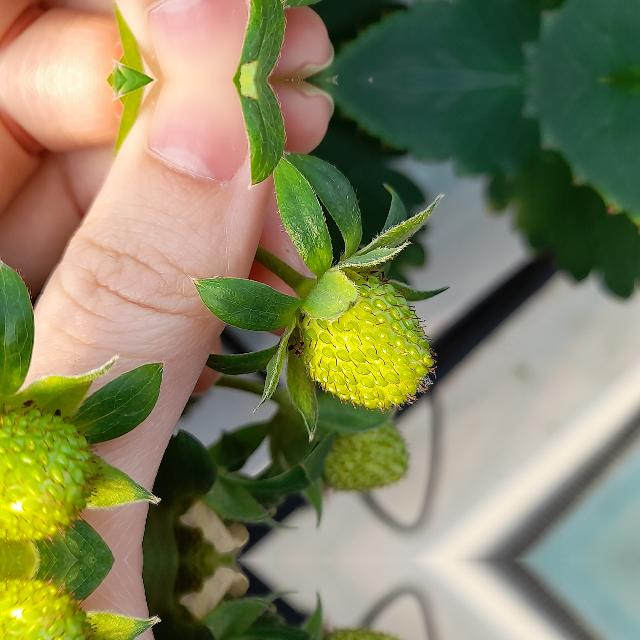Health_25: (297, 268, 437, 414), (0, 397, 104, 545), (0, 575, 104, 640)
